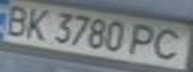0: (103, 17, 130, 53)
3: (48, 9, 75, 46)
7: (66, 11, 90, 47)
8: (87, 15, 109, 51)
B: (0, 2, 33, 37)
C: (148, 25, 190, 62)
K: (18, 4, 54, 42)
P: (124, 20, 163, 57)
